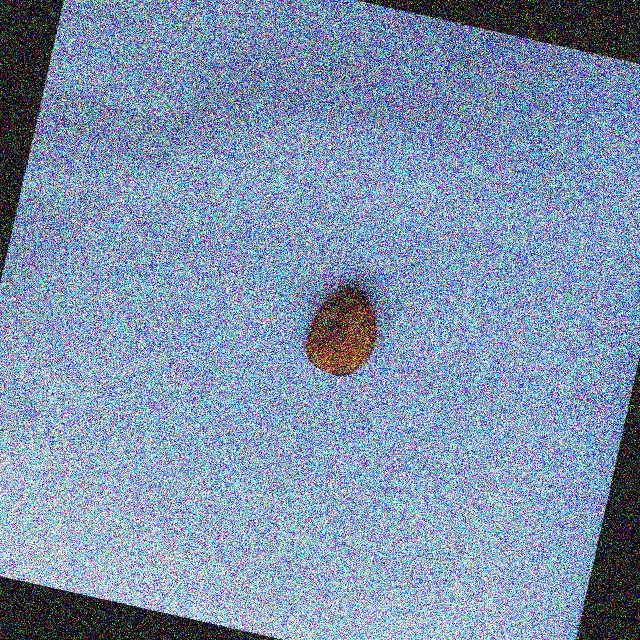grade3: (294, 275, 389, 387)
